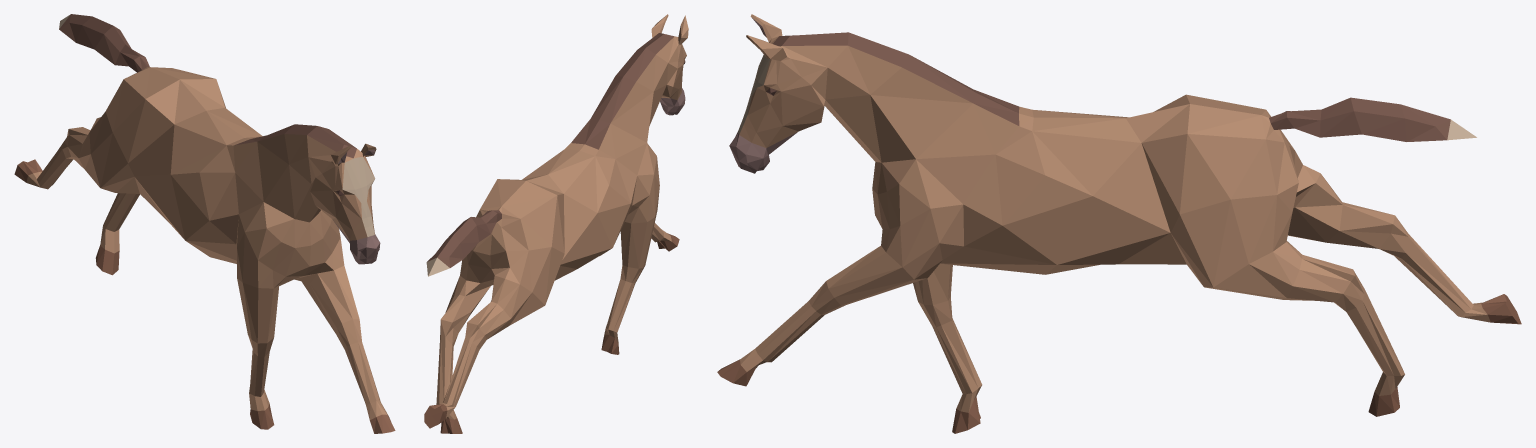
The model's file is Horse.glb.
3 views of the same model, side by side, from view 1: azimuth 30°, elevation 25°; view 2: azimuth 150°, elevation 25°; view 3: azimuth 270°, elevation 25° (orthographic). The views are drawn at different scales.
Visible parts, largest first — view 1: mesh_0; view 2: mesh_0; view 3: mesh_0.
Boxes of the visible parts, bbox=[...] form: mesh_0: bbox=[14, 14, 395, 433]; mesh_0: bbox=[424, 14, 688, 433]; mesh_0: bbox=[717, 14, 1521, 433].
Size of the model in its own units: 62.29 by 185 by 323.
